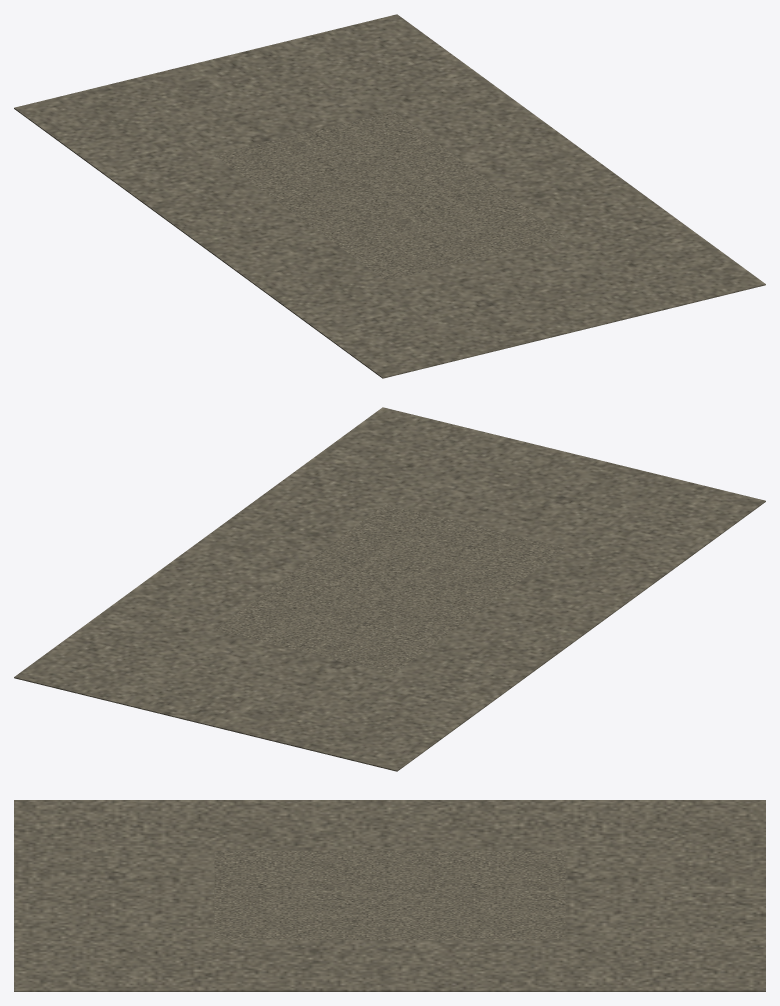
Rendered from carpet_0.fbx.
3 views of the same model, one above another, from view 1: azimuth 30°, elevation 25°; view 2: azimuth 150°, elevation 25°; view 3: azimuth 270°, elevation 25° (orthographic).
Visible parts, largest first — view 1: polySurface418; view 2: polySurface418; view 3: polySurface418.
Part boxes in pixels (x1=…): polySurface418: x1=14, y1=14, x2=765, y2=378; polySurface418: x1=14, y1=407, x2=765, y2=771; polySurface418: x1=14, y1=800, x2=765, y2=991.
Bounding box in the file's own units: 300 × 0.8015 × 500.
